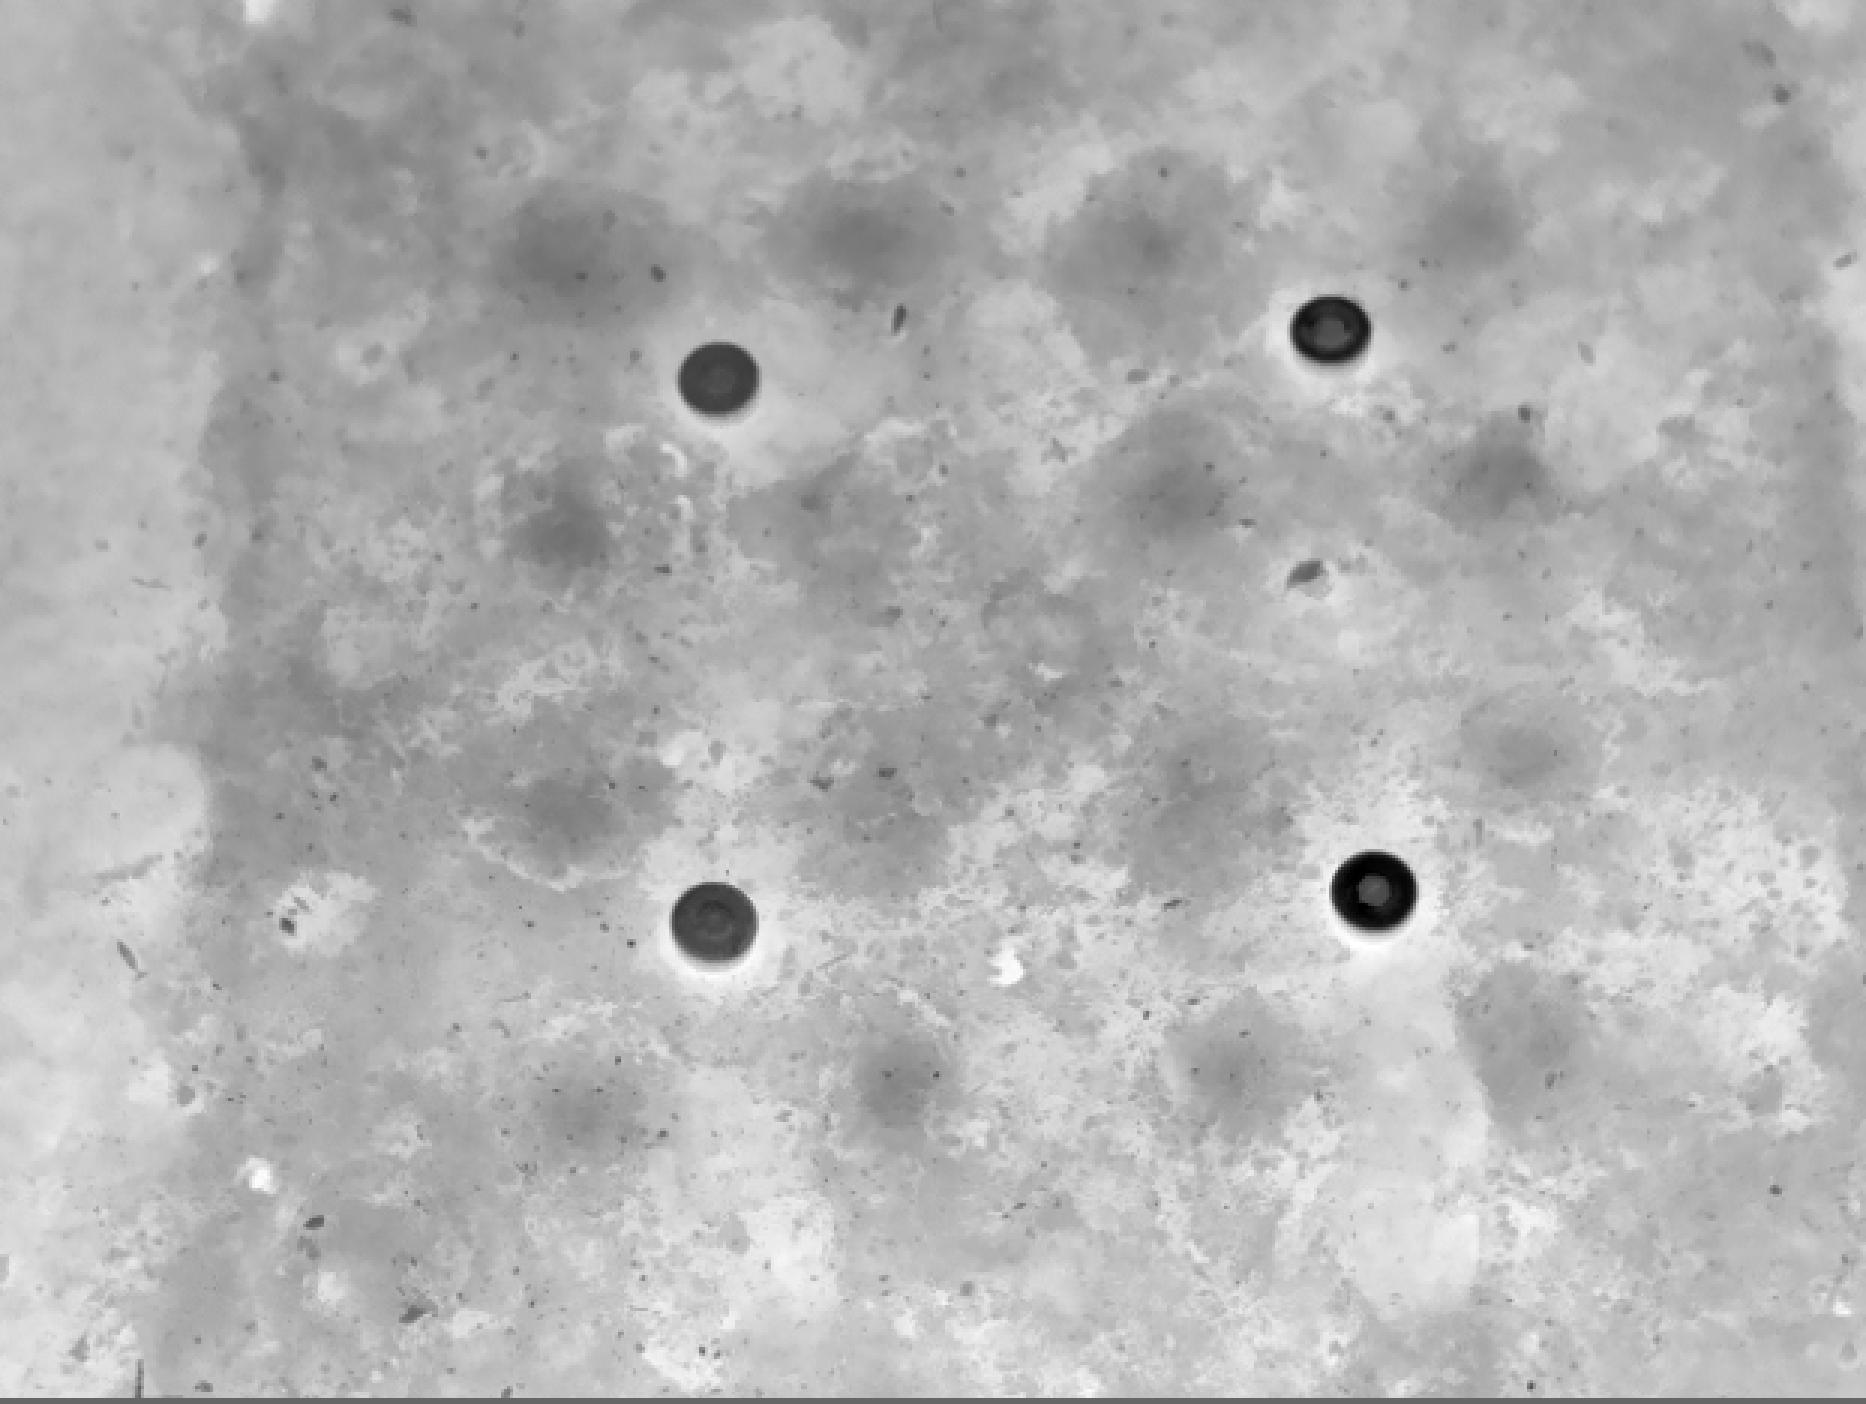mines-gjV8: (1326, 841, 1423, 939), (676, 322, 760, 423), (1289, 289, 1384, 376), (676, 883, 766, 969)
